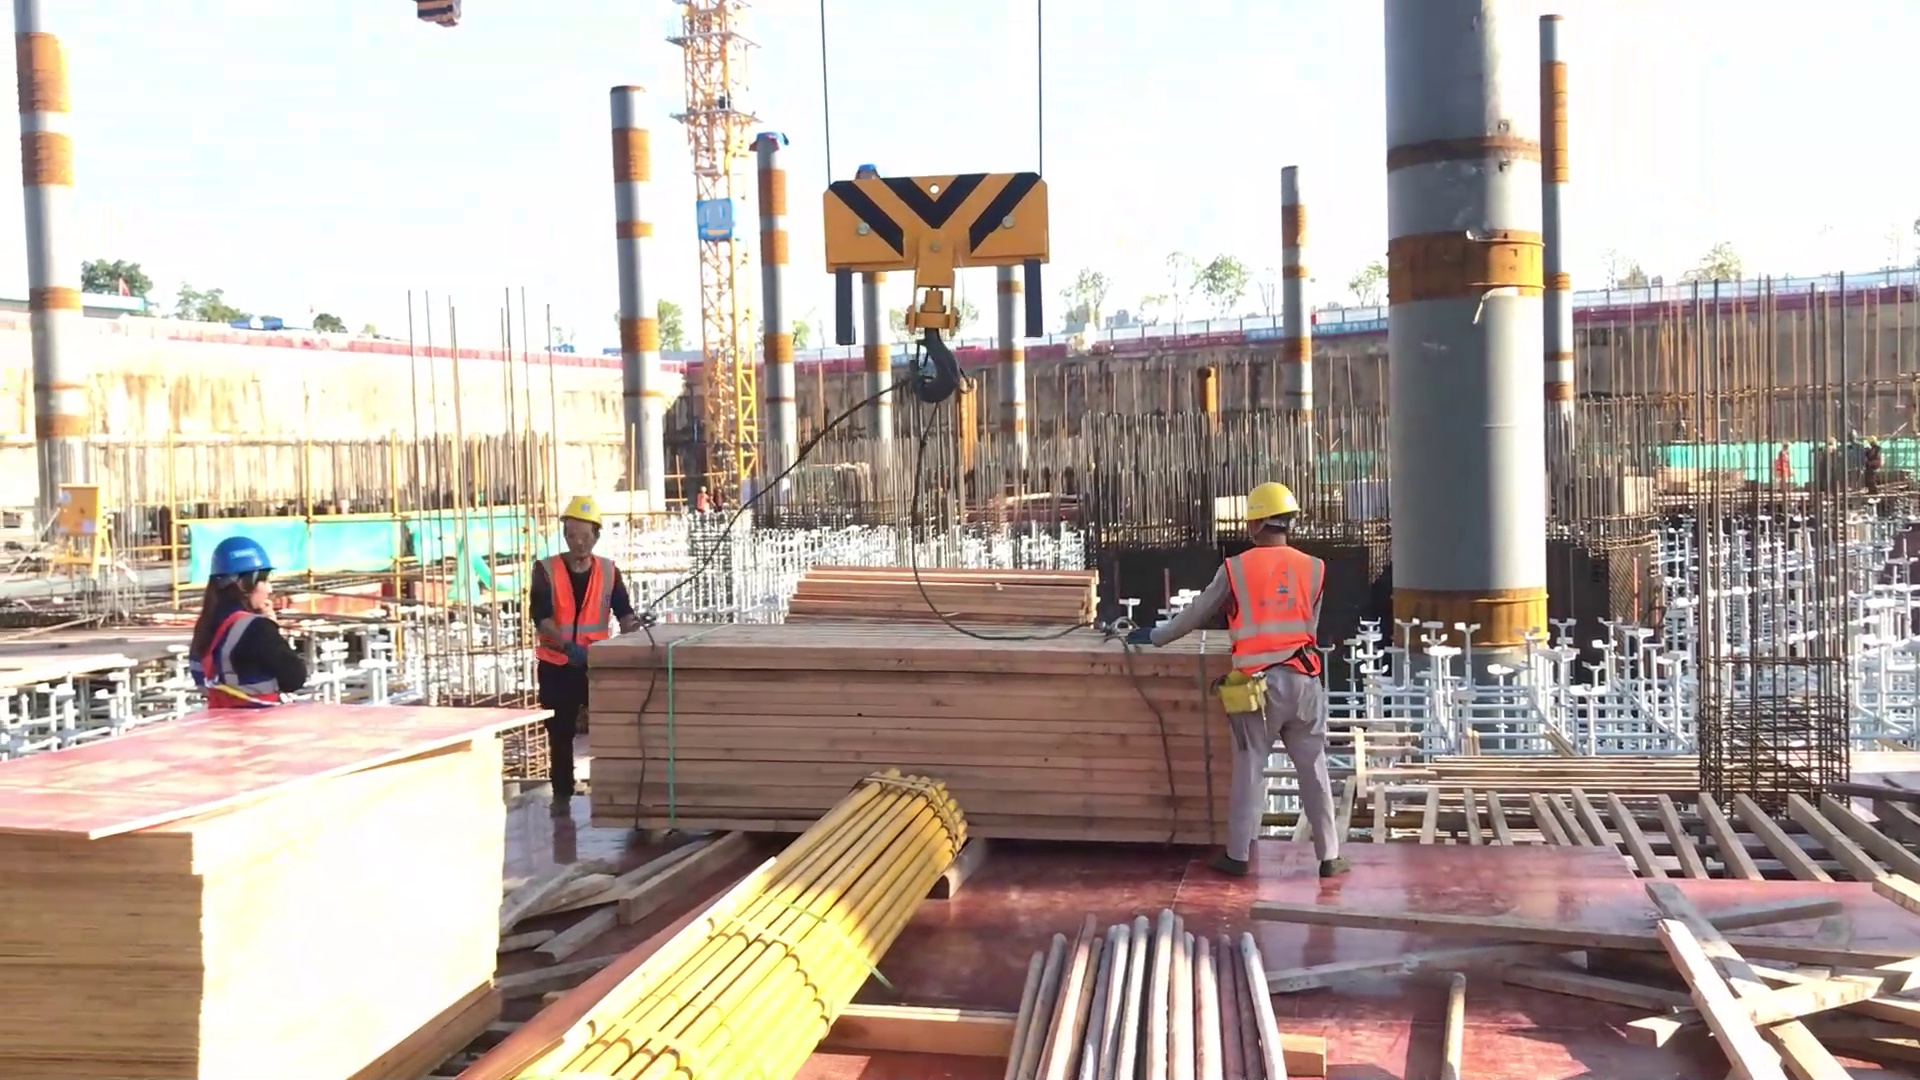board: (1, 696, 569, 1072)
ebox: (39, 474, 119, 583)
helmet: (202, 533, 296, 589), (1224, 464, 1311, 523), (540, 487, 613, 537)
hook: (811, 156, 1073, 408)
person: (1146, 472, 1382, 899), (520, 485, 644, 827), (183, 537, 336, 708)
vest: (1211, 534, 1325, 679), (169, 610, 285, 719), (532, 554, 619, 664)
wood: (578, 616, 1250, 861)
